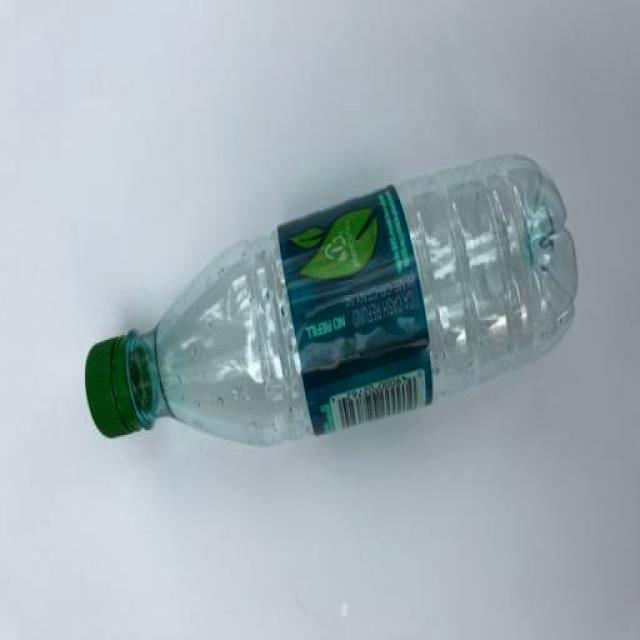bottle: (85, 152, 579, 448)
